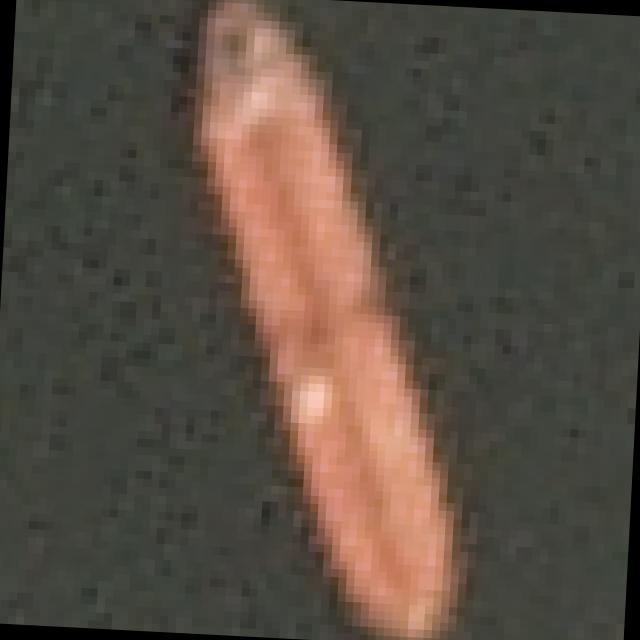ship: (146, 0, 536, 640)
